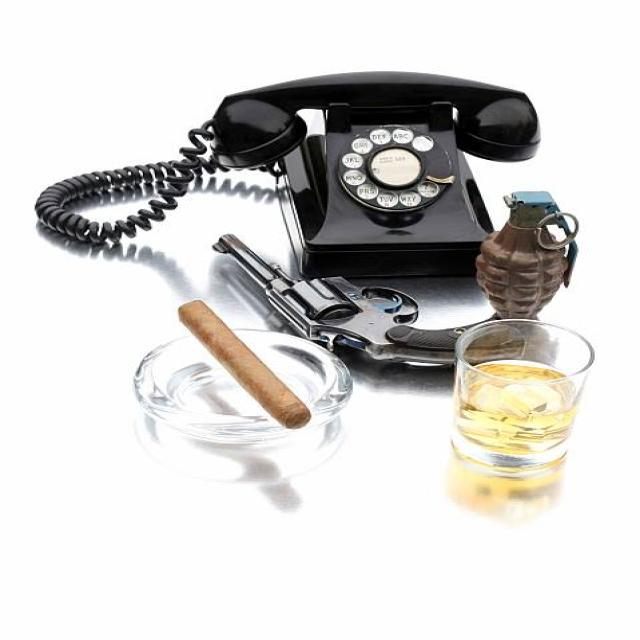grenade: (476, 189, 585, 321)
